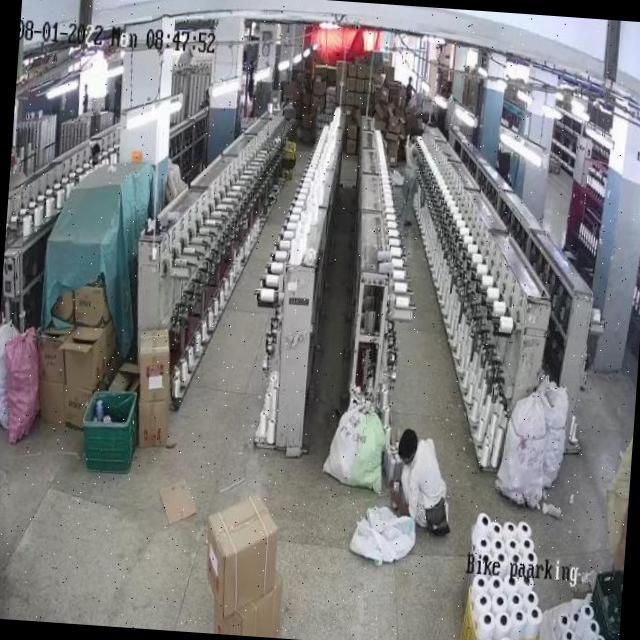person: (397, 426, 458, 538), (398, 128, 422, 222)
